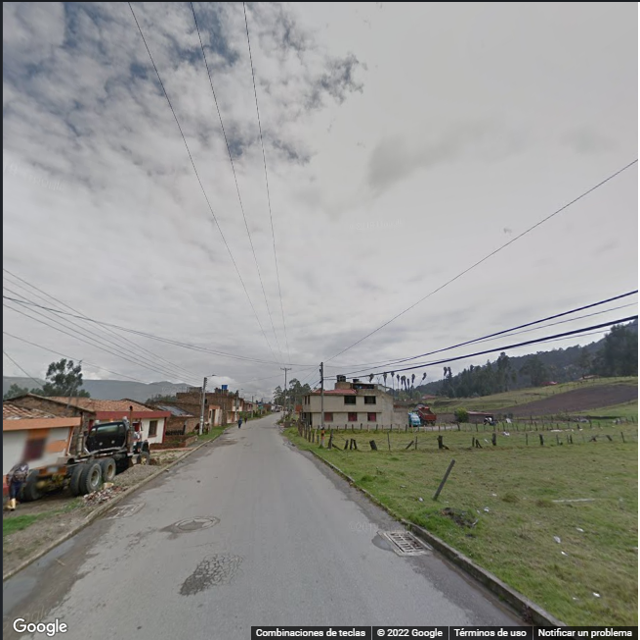D20: (177, 549, 241, 596)
